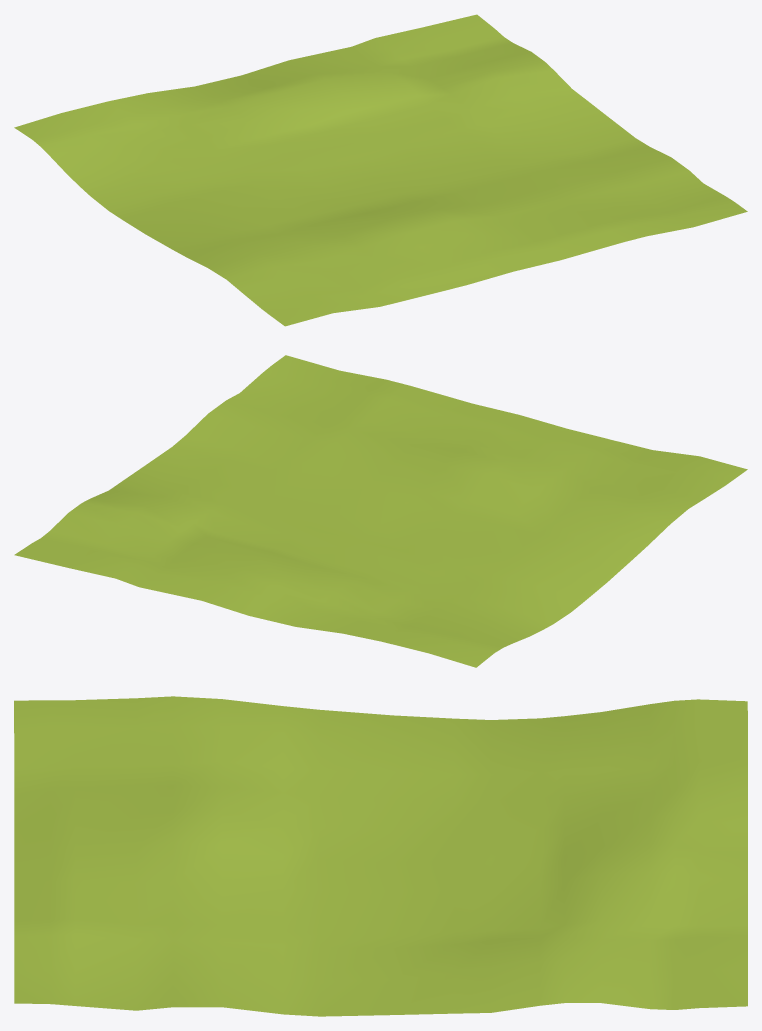
File: collider_chemin_raccourci1.fbx
3 renders of one model, top to bottom at view 1: azimuth 30°, elevation 25°; view 2: azimuth 150°, elevation 25°; view 3: azimuth 270°, elevation 25°, orthographic. The views are drawn at different scales.
Parts seen in each view (by area): view 1: collider_chemin_raccourci1; view 2: collider_chemin_raccourci1; view 3: collider_chemin_raccourci1.
Boxes of the visible parts, <box> form: collider_chemin_raccourci1: <box>14,14,747,326</box>; collider_chemin_raccourci1: <box>14,355,747,667</box>; collider_chemin_raccourci1: <box>14,696,747,1016</box>.
Bounding box in the file's own units: 710 × 31.42 × 721.
